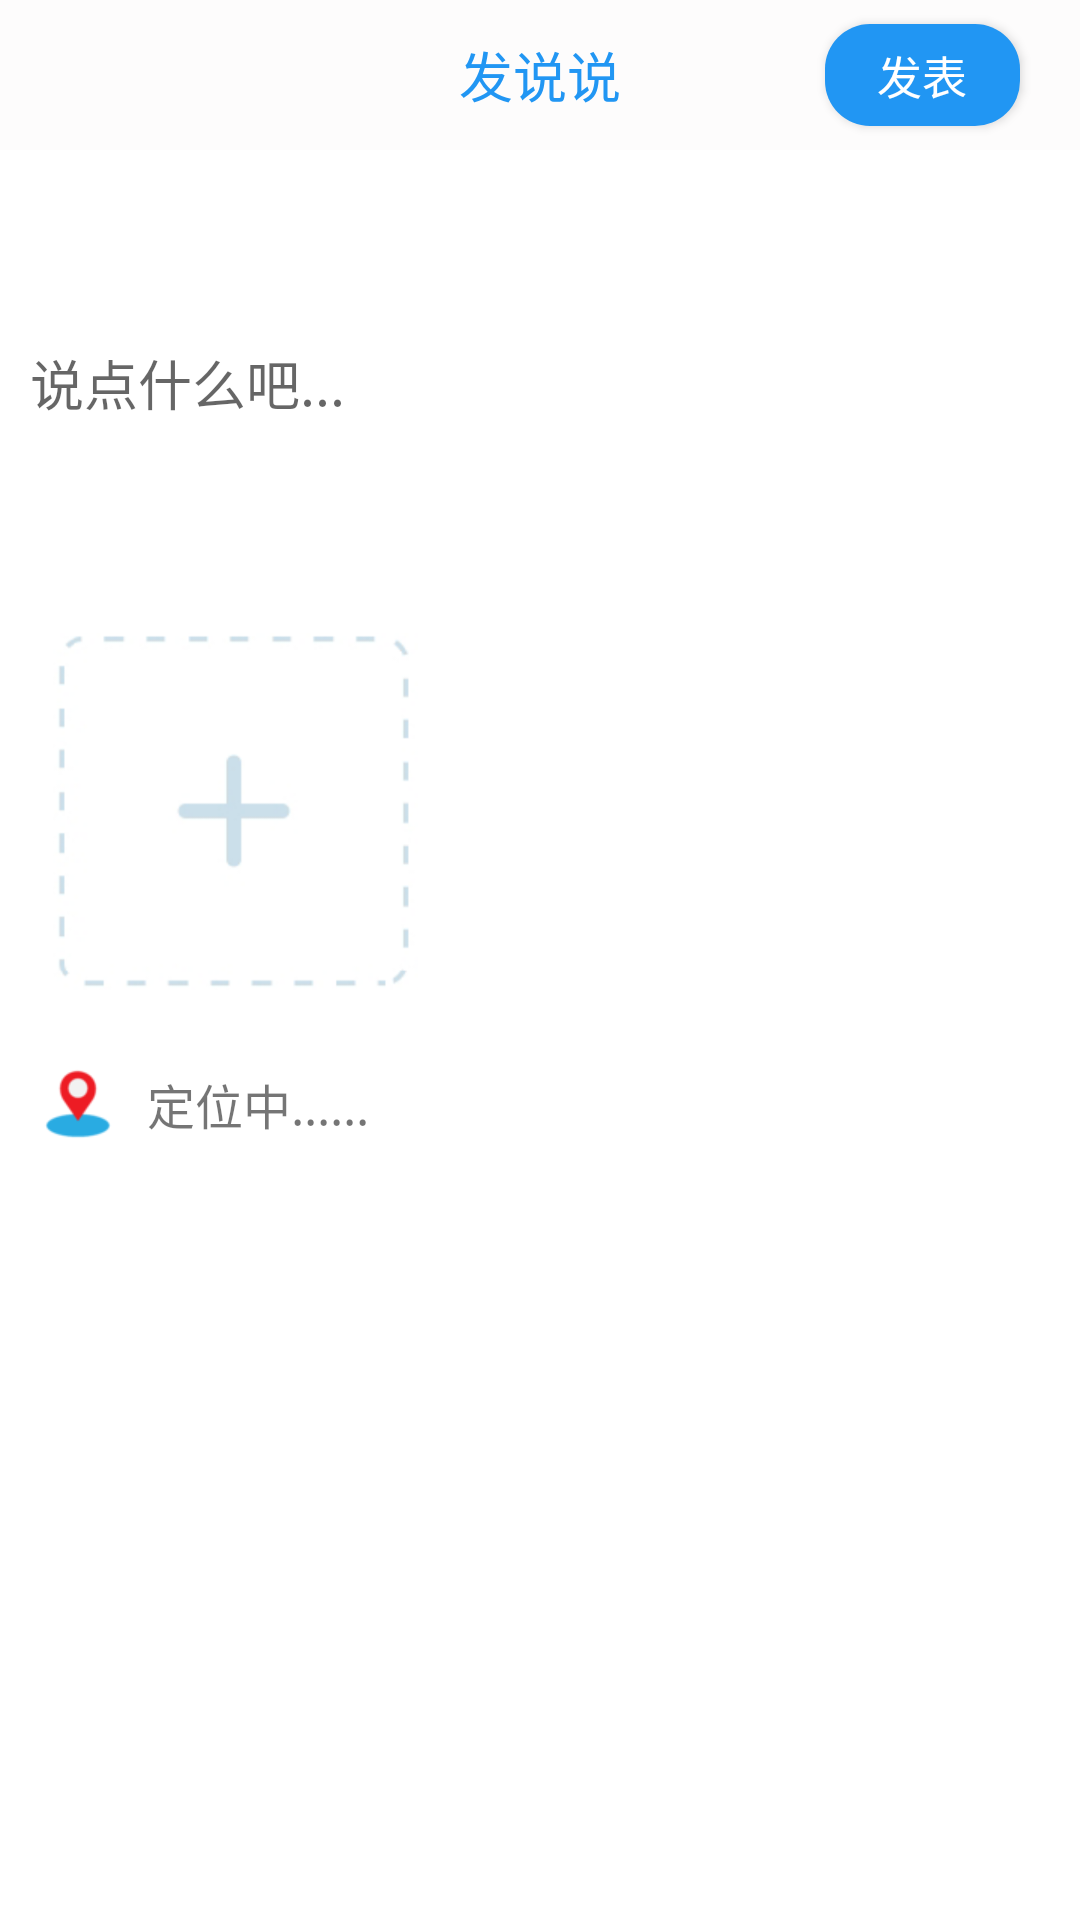

Point at icon controls on the screen. Image size 1080px x 1920px, points as point (x, y).
location: point (78, 1104)
